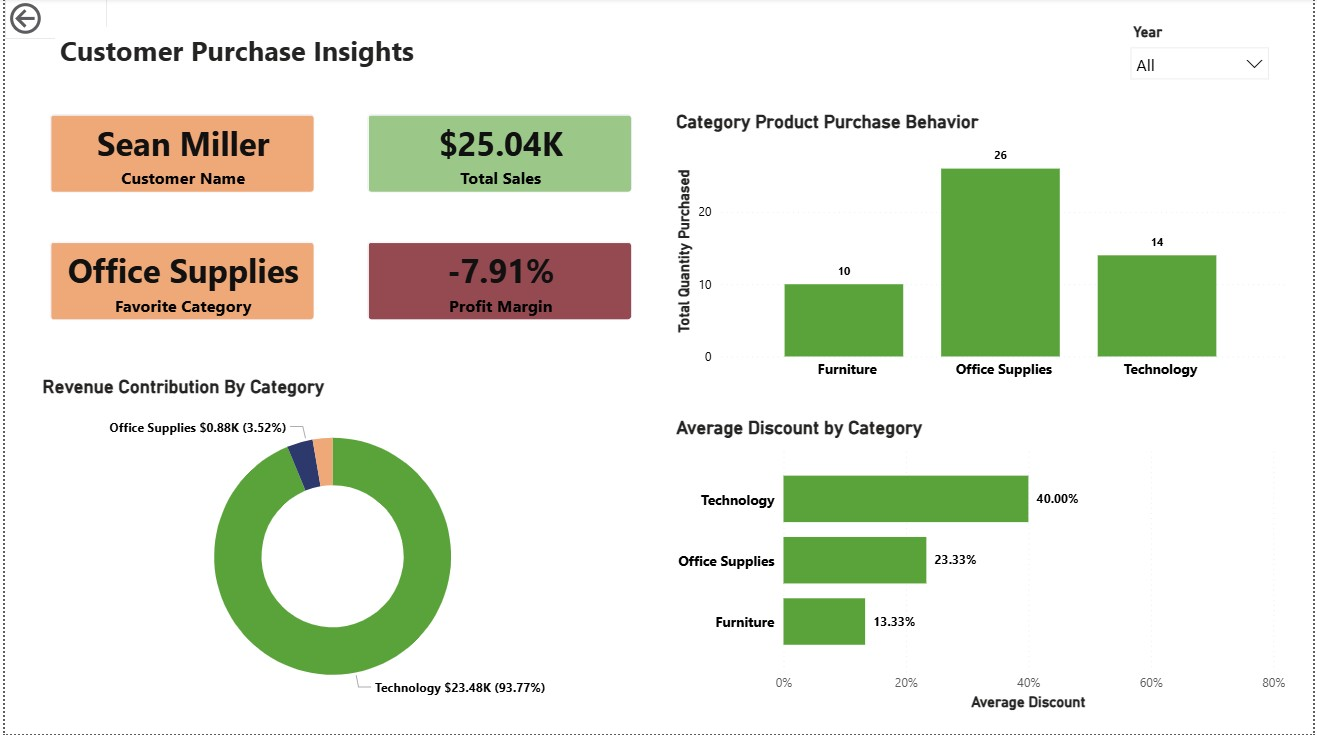

The dashboard page shown, as its layout file describes it:
{"tool":"powerbi","page":{"name":"Customer Insights","canvas":[1280,720],"ordinal":4},"visuals":[{"type":"actionButton","box":[0,0,100,40],"z":0},{"type":"clusteredColumnChart","title":"Category Product Purchase Behavior","fields":{"Y":["Sum(superstore.Quantity)"],"Category":["superstore.Category Hierarchy.Category","superstore.Category Hierarchy.Sub-Category"]},"box":[651.9,109.9,606.2,272.8],"z":1000},{"type":"donutChart","title":"Revenue Contribution By Category","fields":{"Category":["superstore.Category Hierarchy.Category","superstore.Category Hierarchy.Sub-Category"],"Y":["Sum(superstore.Sales)"]},"box":[32.1,369.1,577.8,333.3],"z":2000},{"type":"clusteredBarChart","fields":{"Category":["superstore.Category Hierarchy.Category","superstore.Category Hierarchy.Sub-Category"],"Y":["superstore.Average Discount"]},"box":[651.9,409.9,606.2,292.6],"z":3000},{"type":"cardVisual","fields":{"Data":["Min(superstore.Customer Name)"]},"box":[27.2,96.3,293.8,111.1],"z":4000},{"type":"cardVisual","fields":{"Data":["superstore.Total Sales"]},"box":[337,96.3,293,111.1],"z":5000},{"type":"cardVisual","fields":{"Data":["superstore.Favorite Category"]},"box":[27.2,221,293.8,111],"z":6000},{"type":"cardVisual","fields":{"Data":["superstore.Profit Margin %"]},"box":[337,221,293,111],"z":7000},{"type":"textbox","box":[49.4,28.4,423.5,50.6],"z":8000},{"type":"slicer","fields":{"Values":["Date Table.Year"]},"box":[1091.4,19.8,155.6,66.7],"z":9000}]}

Visuals, with their boxes in screenshot pixels (x1, y1, x2, y2), scaled from the page's 1280x720 canvas onto the 1317x735 screenshot:
actionButton: (0,0,103,41)
"Category Product Purchase Behavior" clusteredColumnChart: (671,112,1294,391)
"Revenue Contribution By Category" donutChart: (33,377,628,717)
clusteredBarChart - superstore.Category Hierarchy.Category x superstore.Category Hierarchy.Sub-Category: (671,418,1294,717)
cardVisual - Min(superstore.Customer Name): (28,98,330,212)
cardVisual - superstore.Total Sales: (347,98,648,212)
cardVisual - superstore.Favorite Category: (28,226,330,339)
cardVisual - superstore.Profit Margin %: (347,226,648,339)
textbox: (51,29,487,81)
slicer - Date Table.Year: (1123,20,1283,88)
